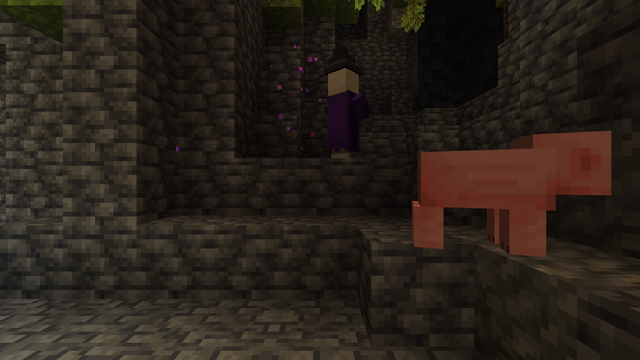cochons: (411, 144, 564, 256)
sorcieres: (328, 64, 358, 140)
